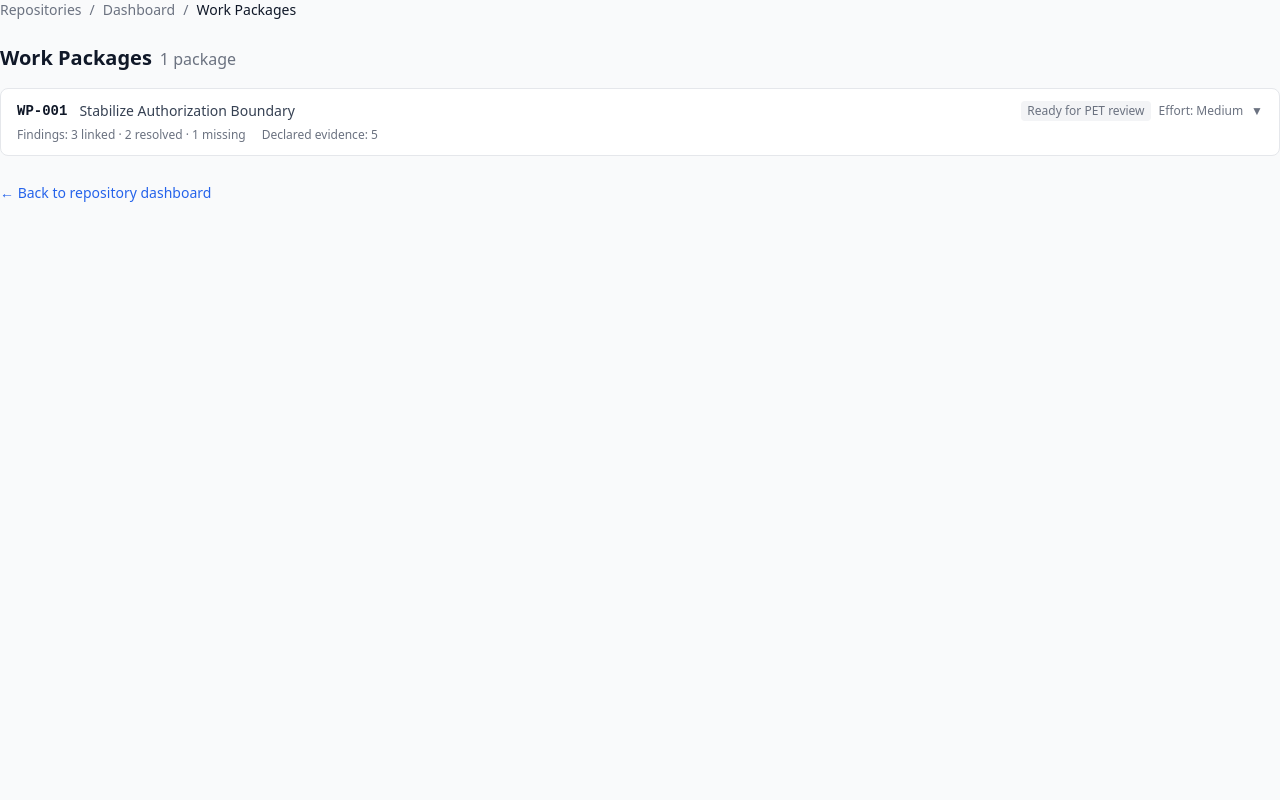
Test: WorkPackages view states › renders resolved linked finding
This screenshot has width=1280, height=800.
Check: the text "Stabilize Authorization Boundary" is shown, box [79, 101, 295, 121]
Click the button: (42, 111) [1, 89, 1279, 155]
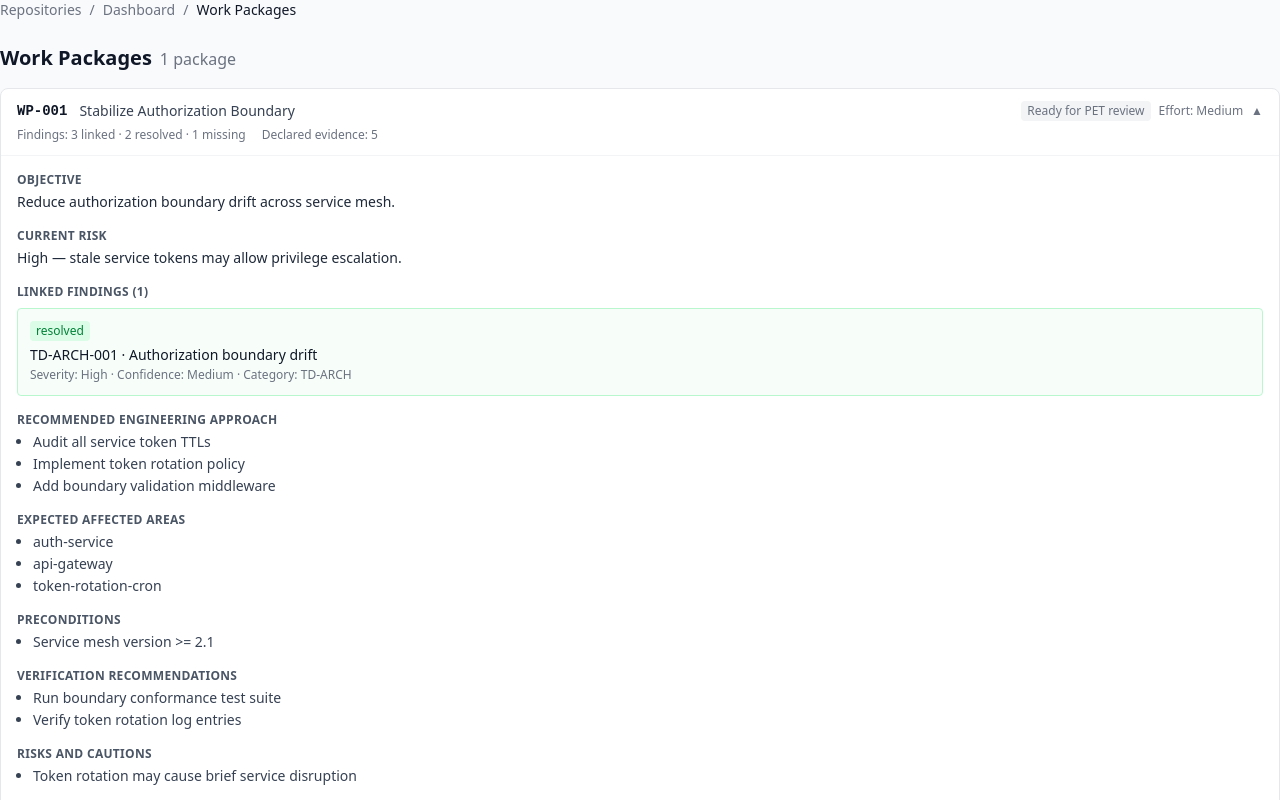
Check: the text "TD-ARCH-001 · Authorization boundary drift" is shown, box [30, 345, 317, 364]
